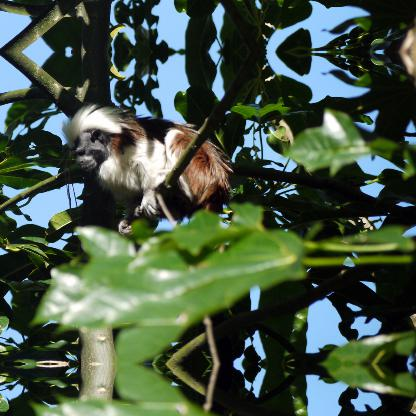Monkey: (58, 99, 232, 233)
